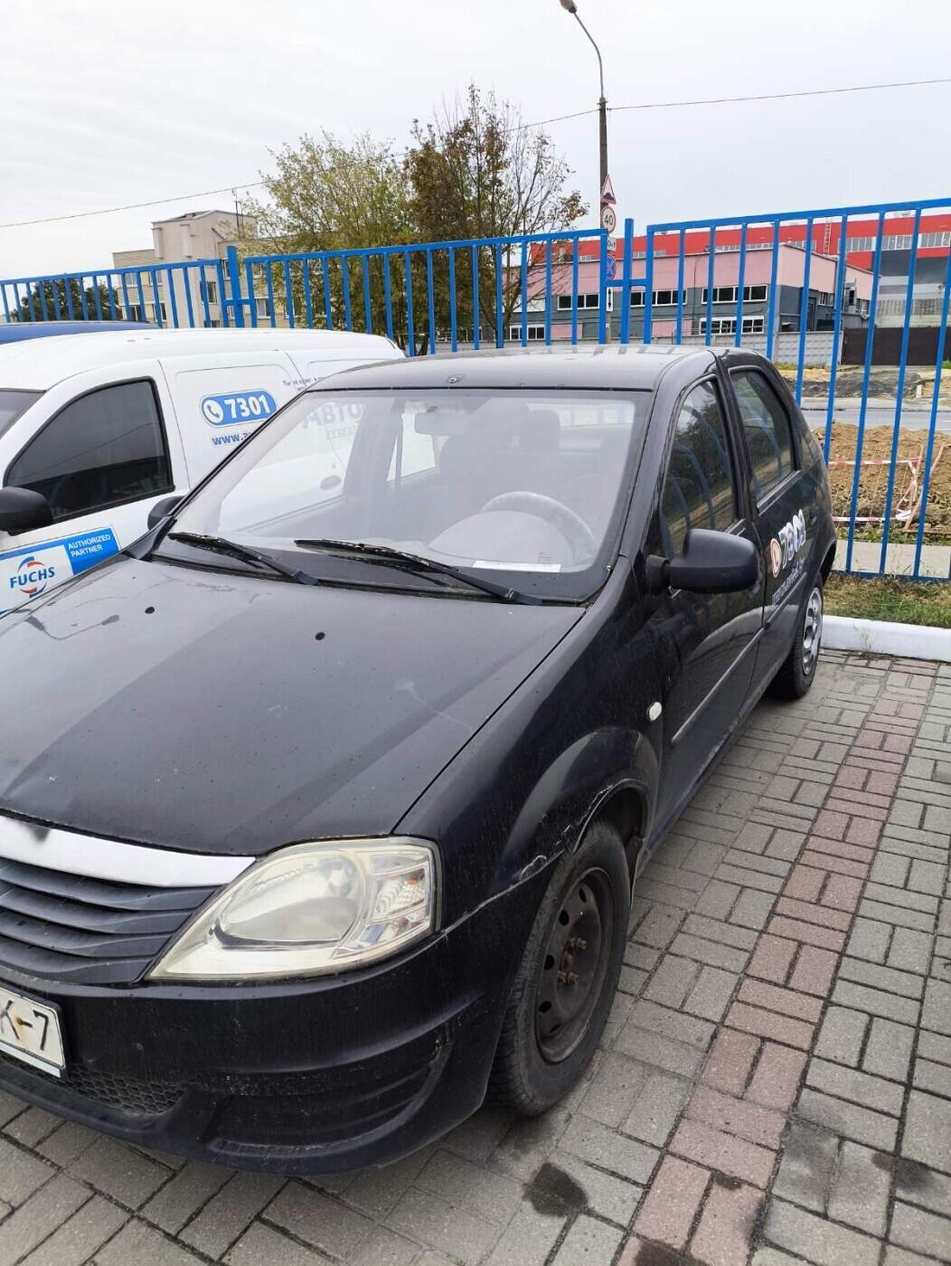Logan_2008-2015: (7, 347, 833, 1159)
